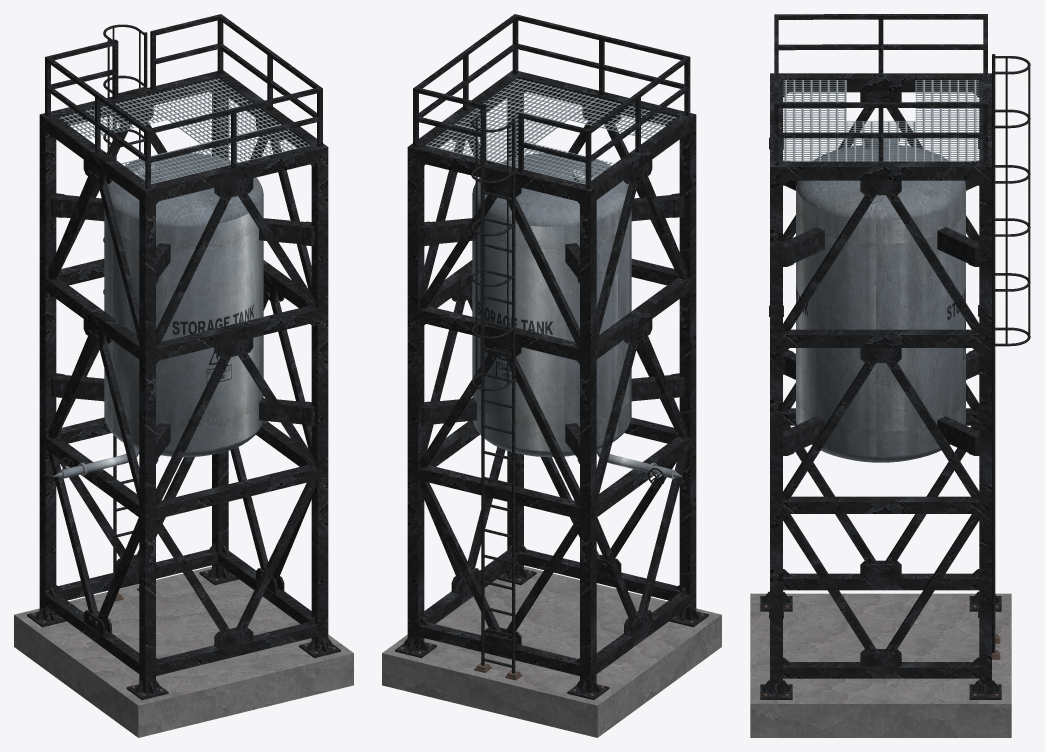
Rendered from simple_industrial_storage_tank.glb.
3 views of the same model, side by side, from view 1: azimuth 30°, elevation 25°; view 2: azimuth 150°, elevation 25°; view 3: azimuth 270°, elevation 25° (orthographic). The views are drawn at different scales.
Visible parts, largest first — view 1: BaseStructure, Tank, TopFloor, Ladder; view 2: BaseStructure, Tank, Ladder, TopFloor; view 3: BaseStructure, Tank, TopFloor, Ladder.
Part boxes in pixels (x1,y1,x2,y2): BaseStructure: (14,14,353,737); Tank: (53,153,263,478); TopFloor: (59,78,309,184); Ladder: (103,24,147,588); BaseStructure: (382,14,721,737); Tank: (472,153,682,478); Ladder: (471,110,515,673); TopFloor: (426,78,676,184); BaseStructure: (750,14,1011,737); Tank: (796,138,965,462); TopFloor: (783,80,979,161); Ladder: (992,54,1030,653).
Size of the model in its own units: 3.87 by 9.21 by 3.75.
Materials: 5 (5 with a texture image).
